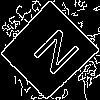N: (24, 26, 83, 85)
